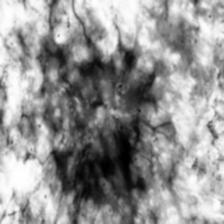Potentially Malignant Skin Tumors: (56, 110, 140, 201)
